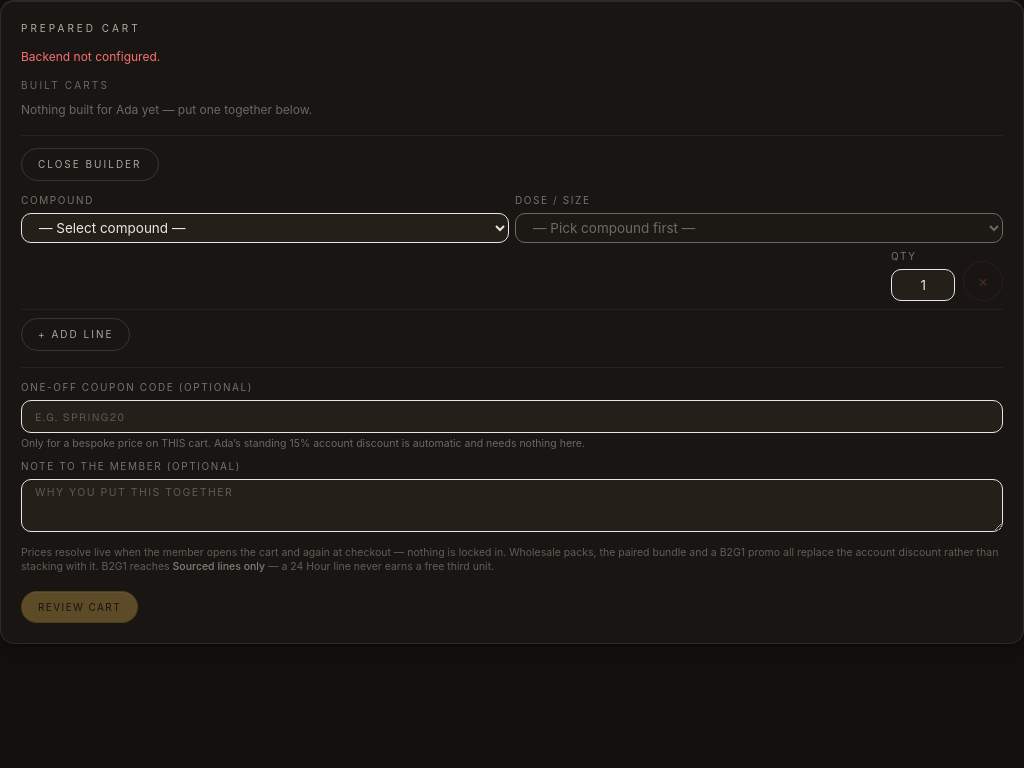
PreparedCartPanel — the line editor › the picked tier stays visible on the line row after selection
Expected: the button "Review cart" is shown, left=21, top=591, right=138, bottom=623
Select "BPC-157 · mixed tiers" in the dropdown labelled "Compound" at [265, 228], box left=21, top=213, right=509, bottom=243
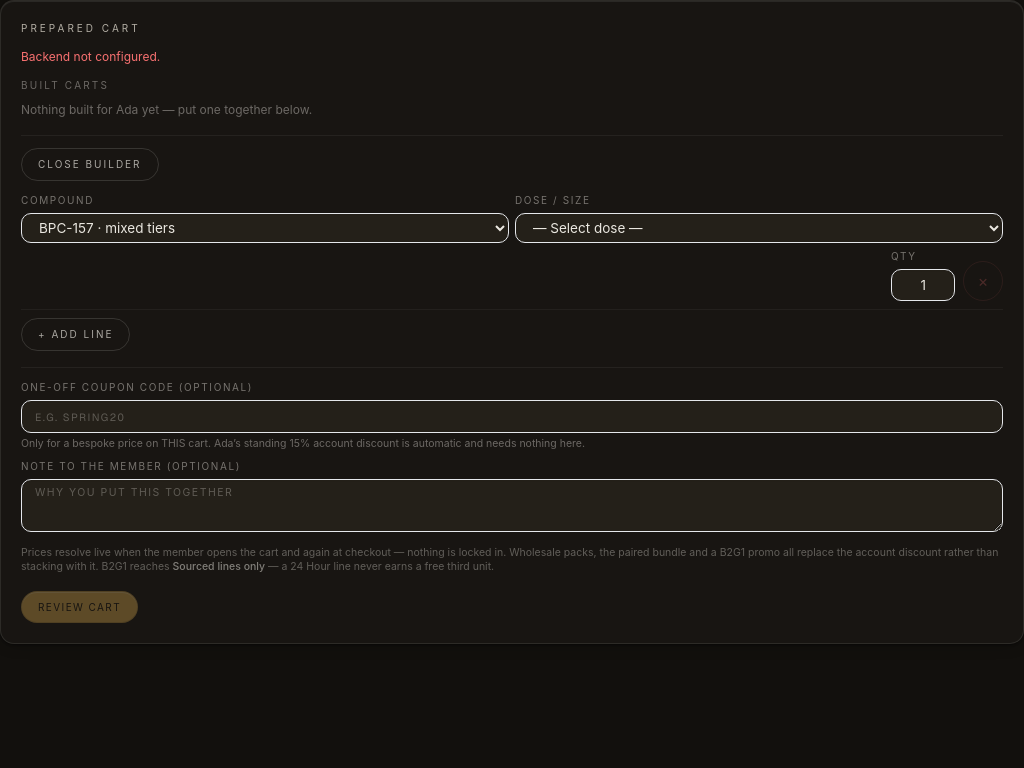
Select "5mg · $60 · 24 Hour Shipping" in the dropdown labelled "Dose / size" at [759, 228], box left=515, top=213, right=1003, bottom=243
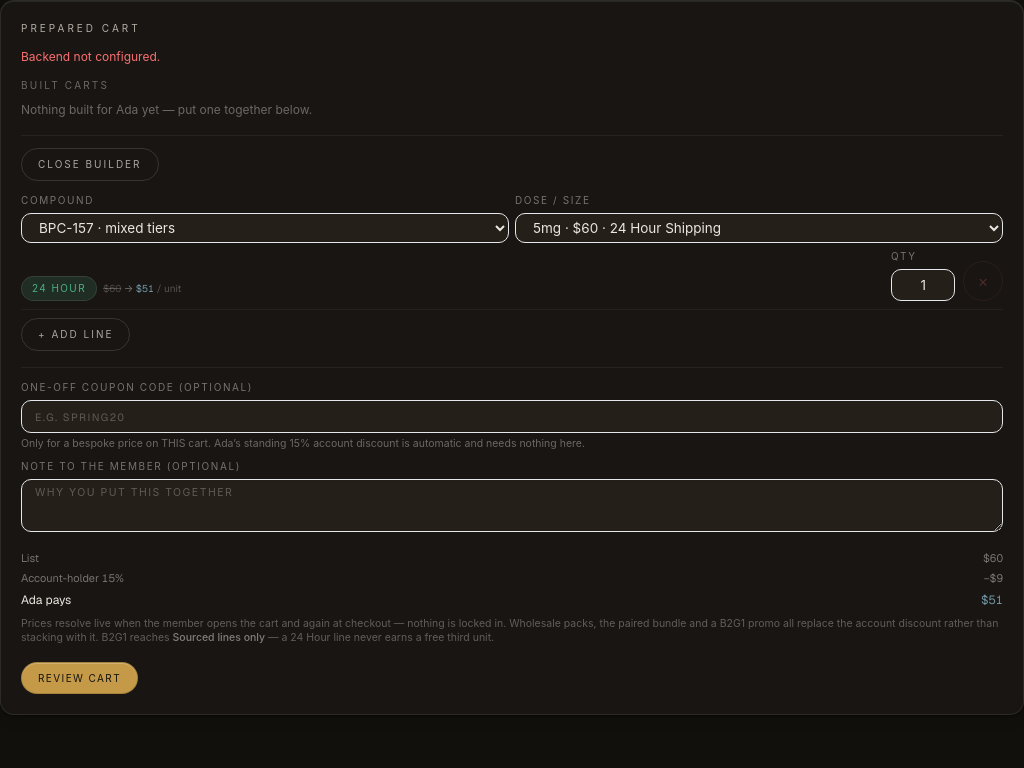
Now the text "24 Hour" is shown, box left=21, top=276, right=97, bottom=301
Select "10mg · $100 · Standard Shipping · 7–10 business days" in the dropdown labelled "Dose / size" at [759, 228], box left=515, top=213, right=1003, bottom=243
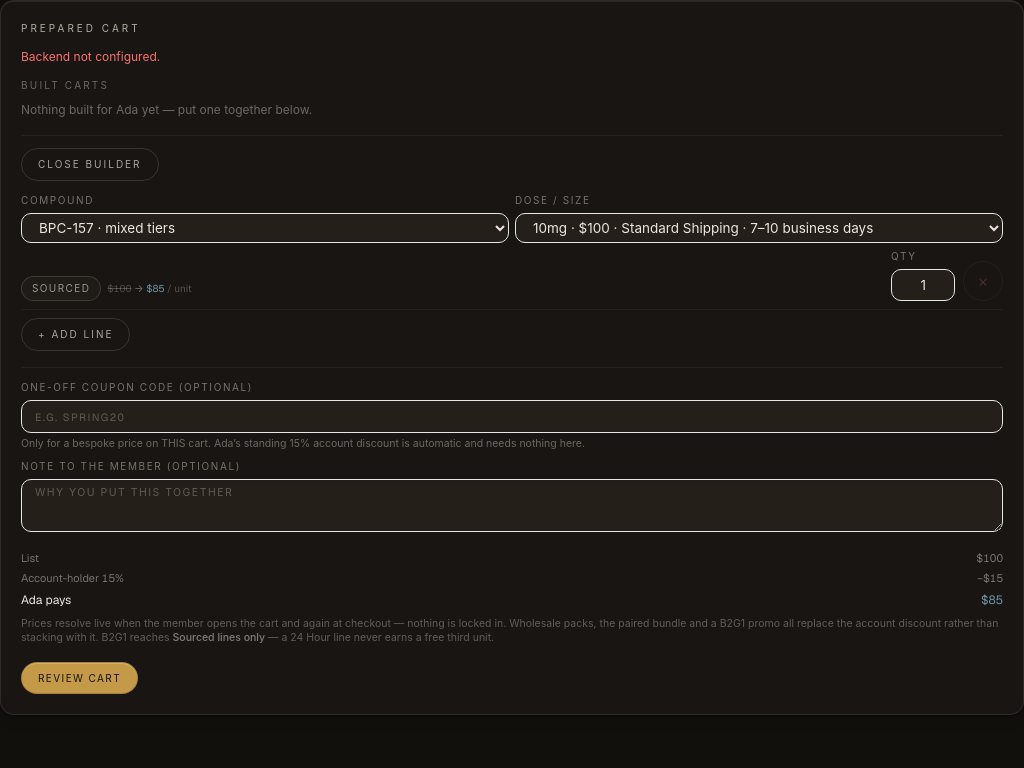
Now the text "Sourced" is shown, box left=21, top=276, right=101, bottom=301
